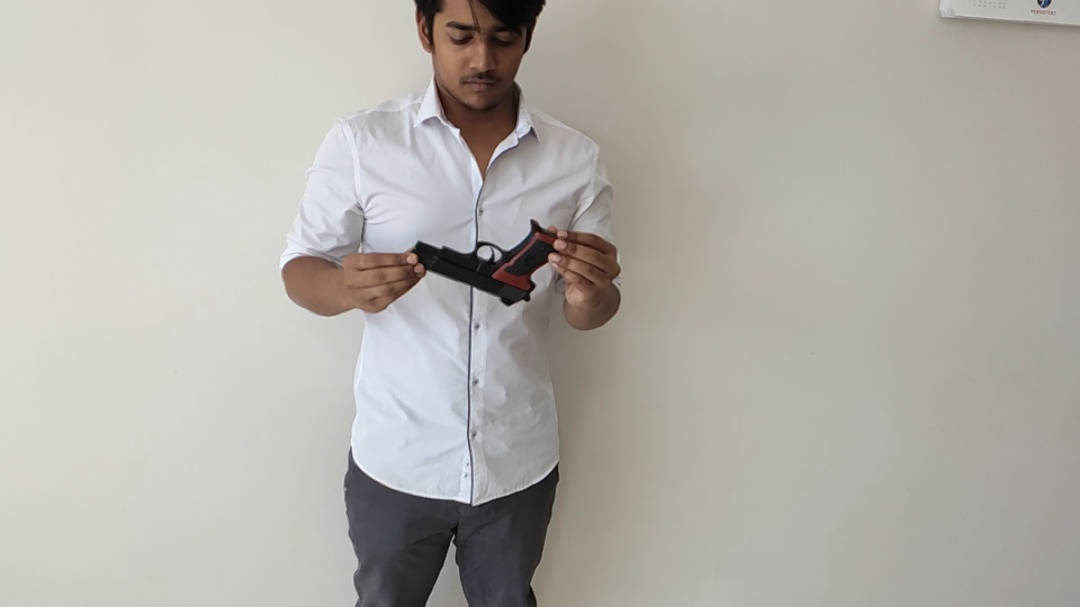gun: (128, 42, 940, 566)
